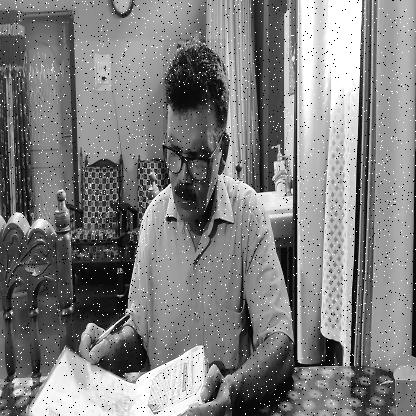Normal: (163, 39, 226, 222)
